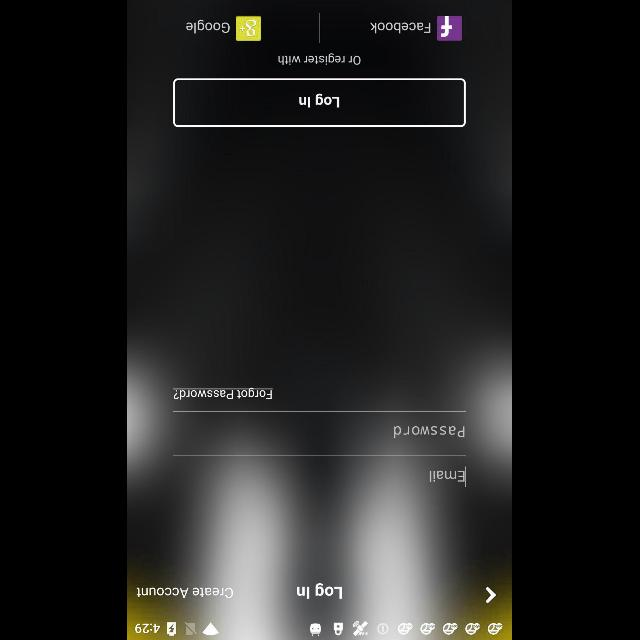icon: (236, 15, 262, 40), (438, 15, 462, 40), (487, 586, 498, 604)
input: (174, 455, 466, 487), (174, 410, 466, 438)
text: (174, 387, 274, 399), (278, 52, 362, 66), (138, 586, 235, 598), (395, 426, 465, 438), (371, 22, 431, 34), (298, 583, 342, 599), (187, 20, 231, 34), (430, 470, 466, 482)
textbutton: (174, 78, 466, 128)
uppertaskbar: (128, 617, 512, 639)
